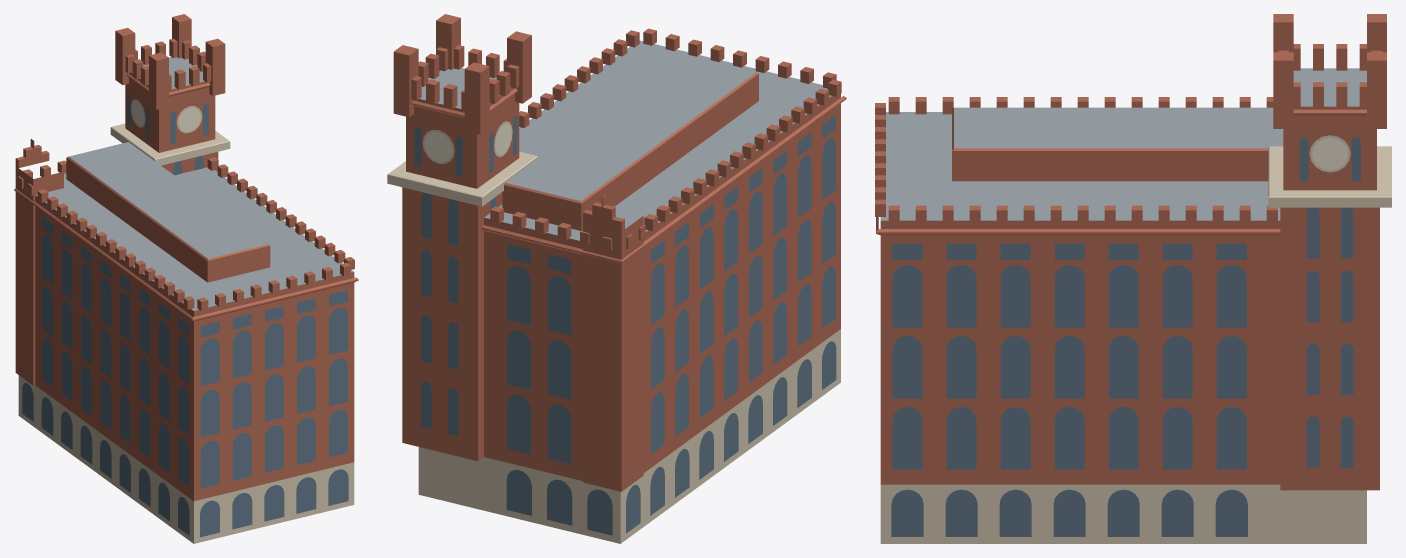
Rendered from stl-brew-house.glb.
3 views of the same model, side by side, from view 1: azimuth 30°, elevation 25°; view 2: azimuth 150°, elevation 25°; view 3: azimuth 270°, elevation 25° (orthographic). The views are drawn at different scales.
Parts seen in each view (by area): view 1: Anheuser-Busch Brew House; view 2: Anheuser-Busch Brew House; view 3: Anheuser-Busch Brew House.
Part boxes in pixels (left/top/right/bottom): Anheuser-Busch Brew House: left=14, top=14, right=358, bottom=543; Anheuser-Busch Brew House: left=387, top=14, right=846, bottom=543; Anheuser-Busch Brew House: left=875, top=14, right=1391, bottom=543.
Bounding box in the file's own units: 28.65 × 54 × 51.45.
